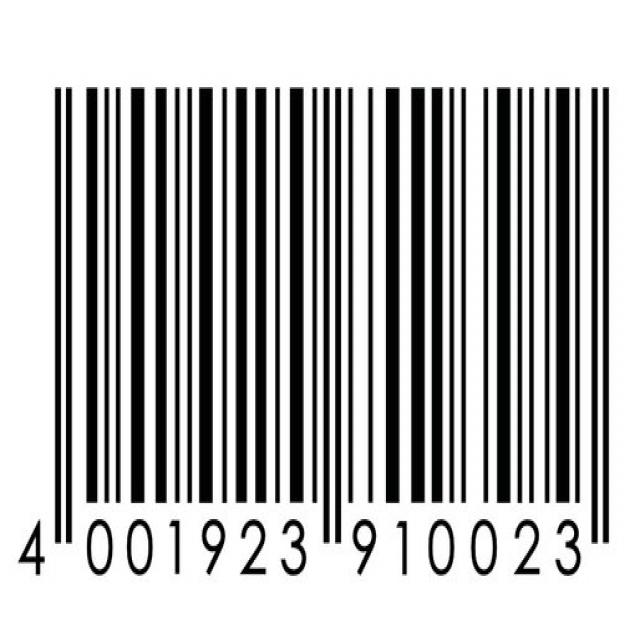Barkod: (11, 56, 617, 584)
